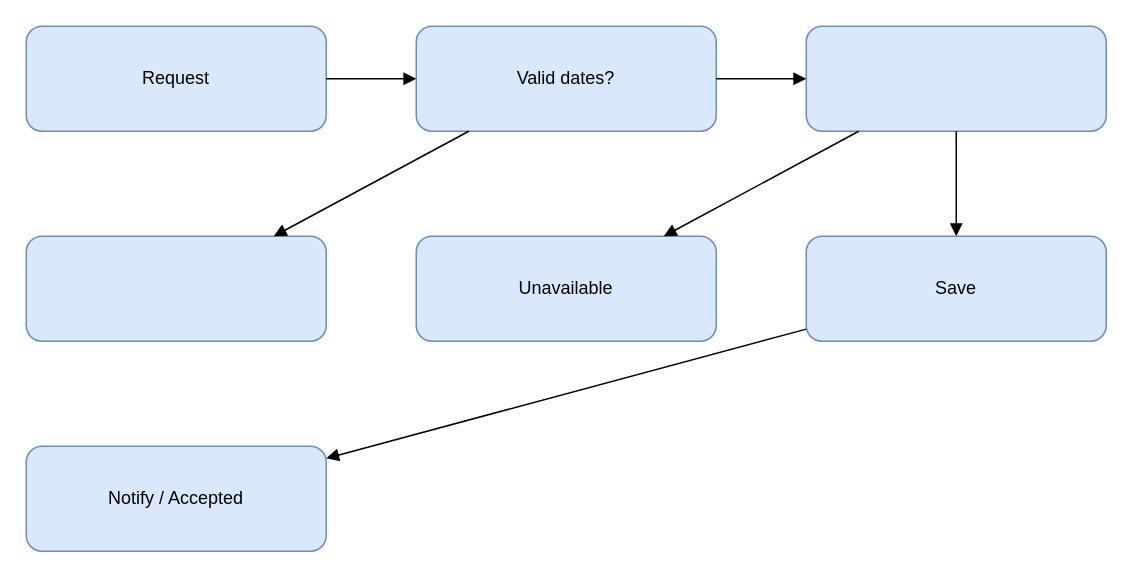
Image size: 1133x578. Some labels were removed from this diagram. Each missing label, with the box of its shape:
InvalidDates: (25, 235, 326, 341)
Overlap?: (805, 25, 1106, 131)
